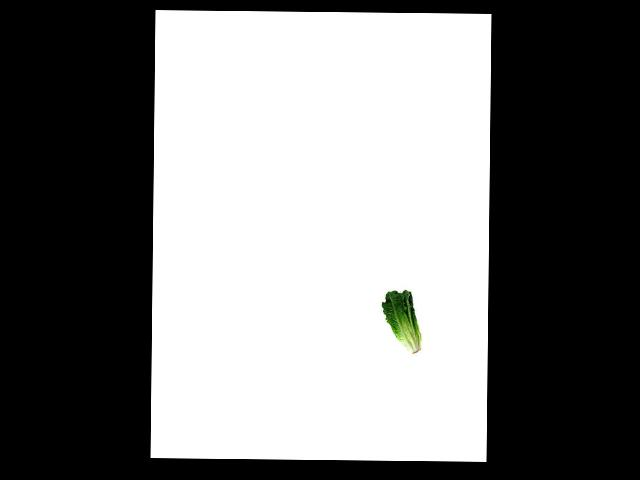lettuce: (382, 288, 424, 357)
